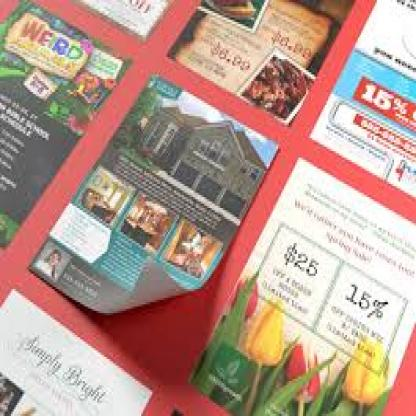Paper: (1, 9, 416, 416)
